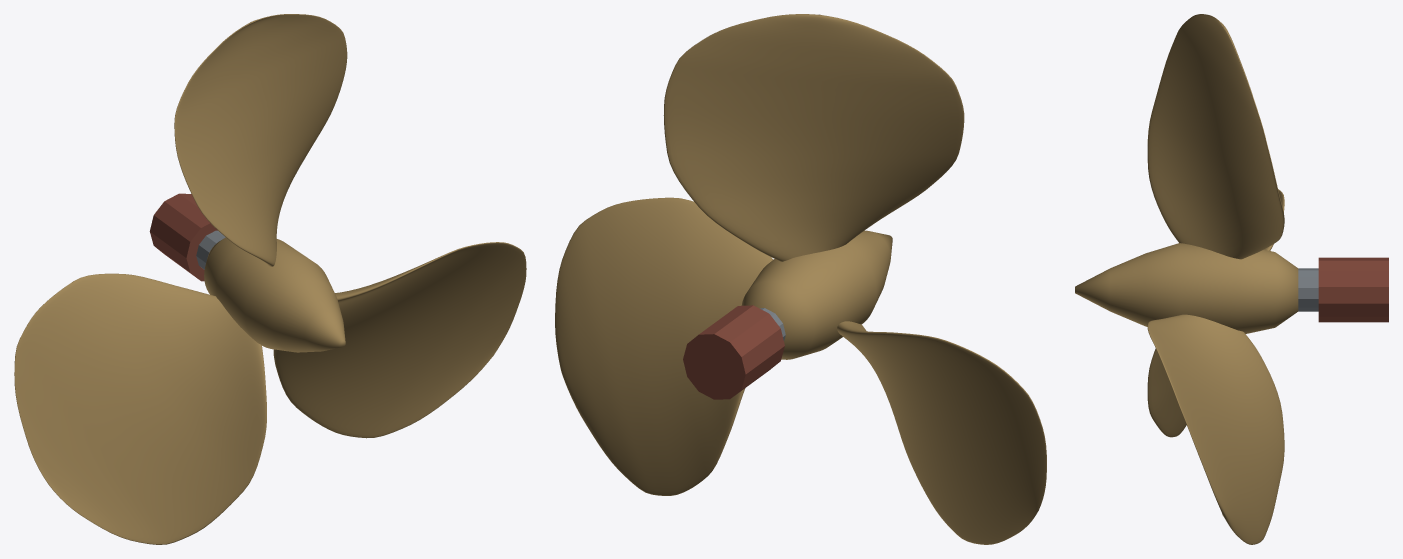
The picture shows the model from 3 angles, left to right: view 1: azimuth 30°, elevation 25°; view 2: azimuth 150°, elevation 25°; view 3: azimuth 270°, elevation 25°; orthographic projection. The views are drawn at different scales.
Visible parts, largest first — view 1: component.spin.mesh, component.root.mesh; view 2: component.spin.mesh, component.root.mesh; view 3: component.spin.mesh, component.root.mesh.
Boxes of the visible parts, x1,y1,x2,y2 form: component.spin.mesh: (14,14,526,544); component.root.mesh: (149,193,225,281); component.spin.mesh: (555,14,1046,544); component.root.mesh: (683,305,785,399); component.spin.mesh: (1075,14,1298,544); component.root.mesh: (1298,257,1388,322).
Bounding box in the file's own units: 3.94 × 3.75 × 2.32.
